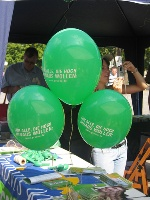person: (92, 53, 148, 177)
